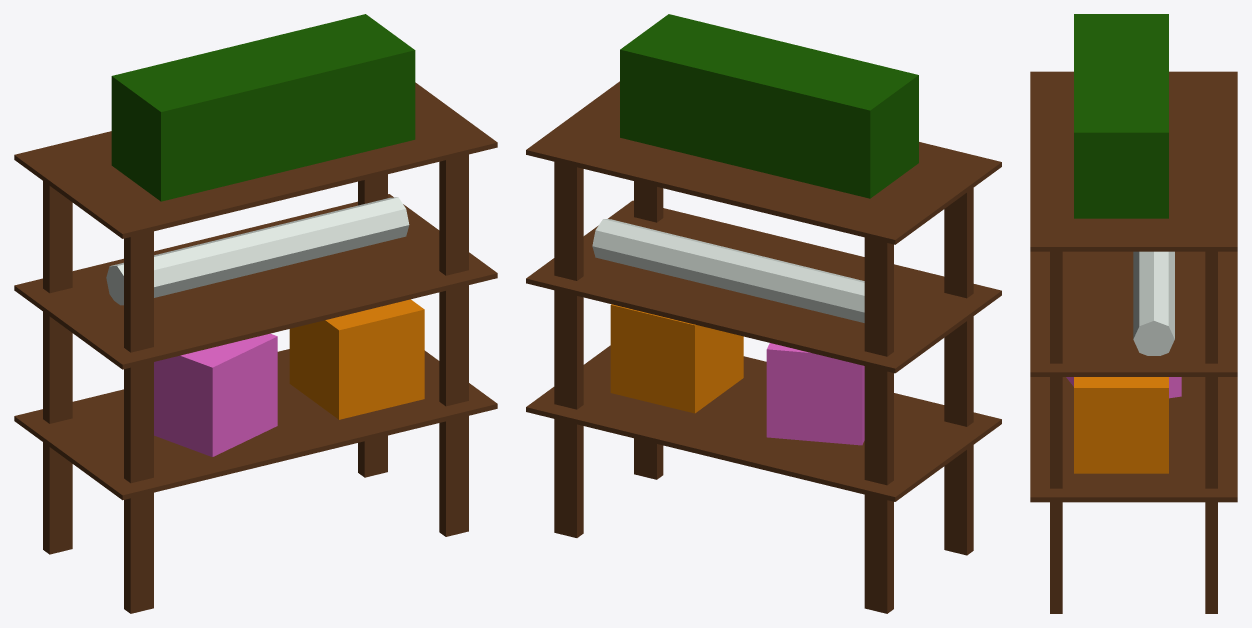
Rendered from ShortShelf.fbx.
3 renders of one model, left to right at view 1: azimuth 30°, elevation 25°; view 2: azimuth 150°, elevation 25°; view 3: azimuth 270°, elevation 25°, orthographic. The views are drawn at different scales.
Visible parts, largest first — view 1: Shelf Short; view 2: Shelf Short; view 3: Shelf Short.
Part boxes in pixels (bbox=[...]): Shelf Short: bbox=[14, 14, 497, 613]; Shelf Short: bbox=[526, 14, 1001, 613]; Shelf Short: bbox=[1030, 14, 1237, 613].
Bounding box in the file's own units: 400 × 491 × 200.
